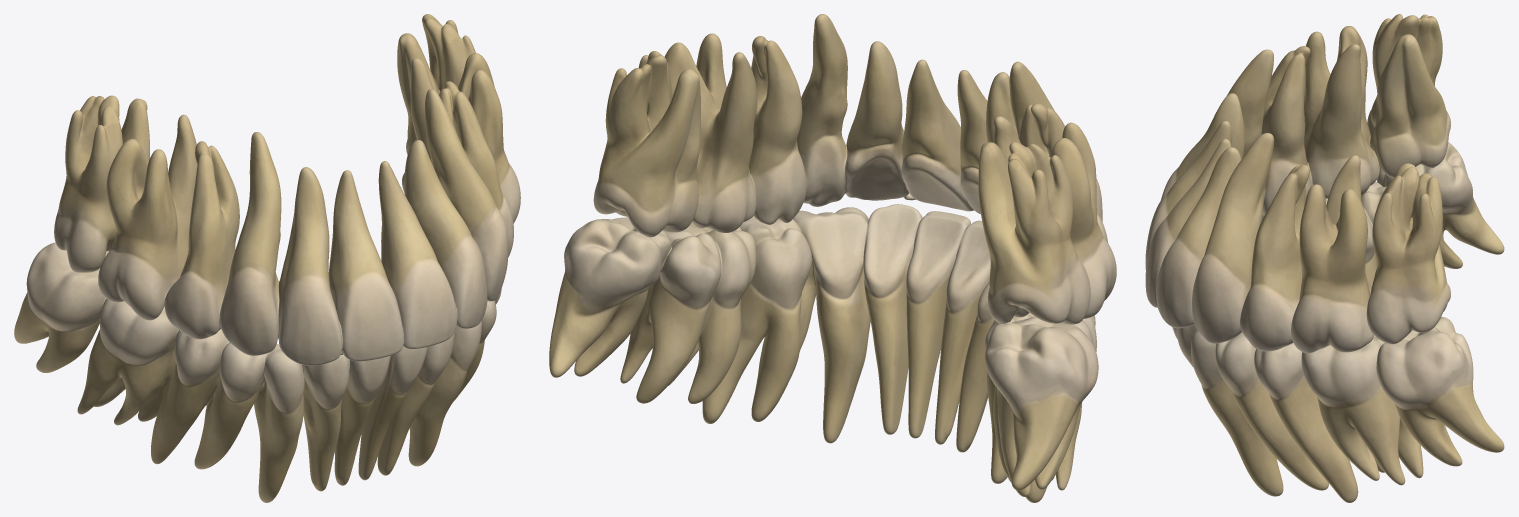
Rendered from meshopt-halftex-v1-e671c55024e8.glb.
3 views of the same model, side by side, from view 1: azimuth 30°, elevation 25°; view 2: azimuth 150°, elevation 25°; view 3: azimuth 270°, elevation 25° (orthographic). The views are drawn at different scales.
Size of the model in its own units: 1.9 by 1.48 by 1.31.
Materials: 1 (1 with a texture image).
